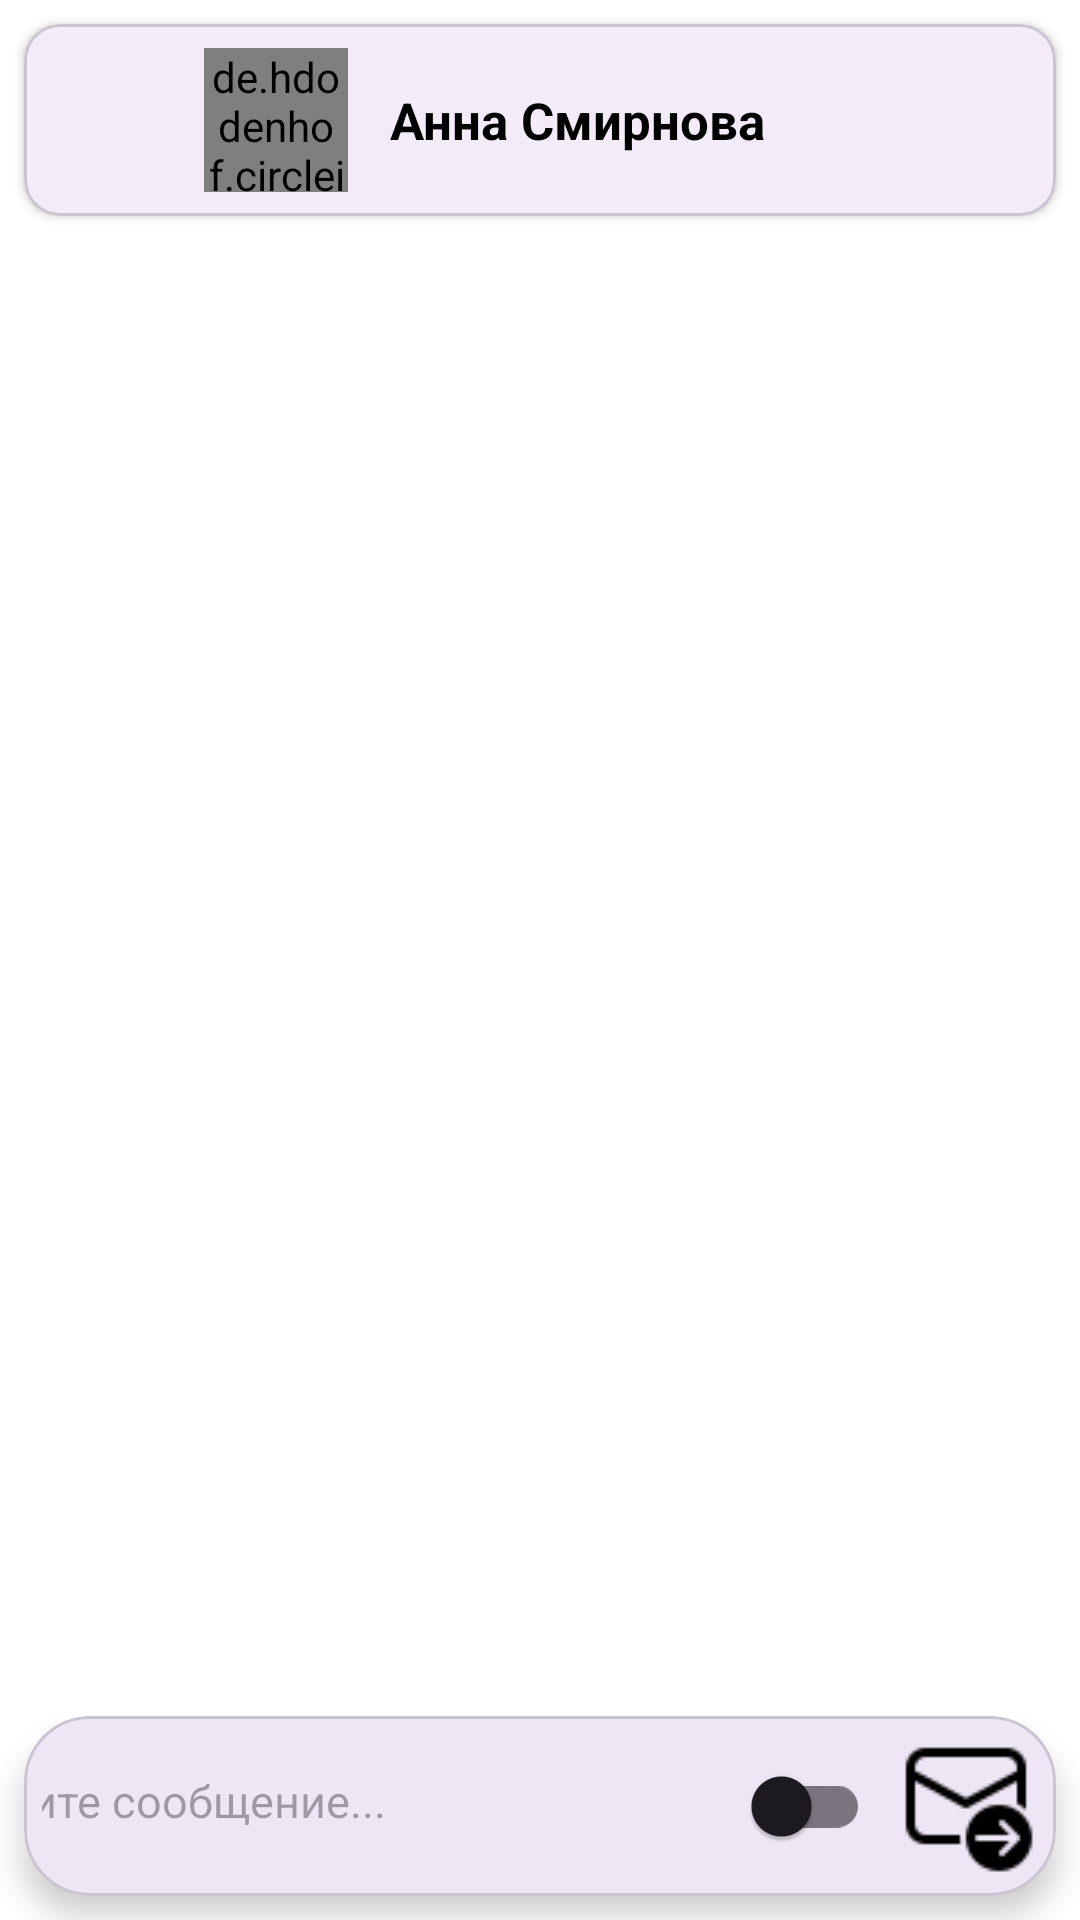

Where to tap for icons on this 1080px×1920px app screen, as point (x, y):
sendic: point (969, 1809)
